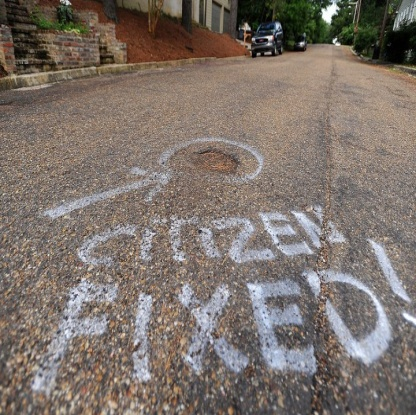pothole: (183, 142, 241, 178)
